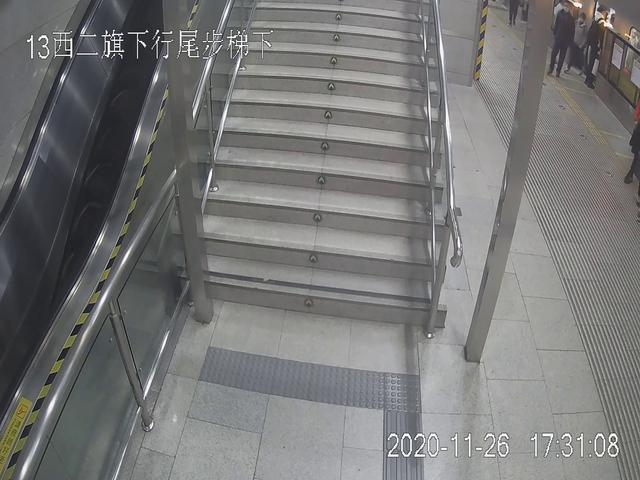person: (545, 1, 578, 79), (583, 7, 610, 87)
